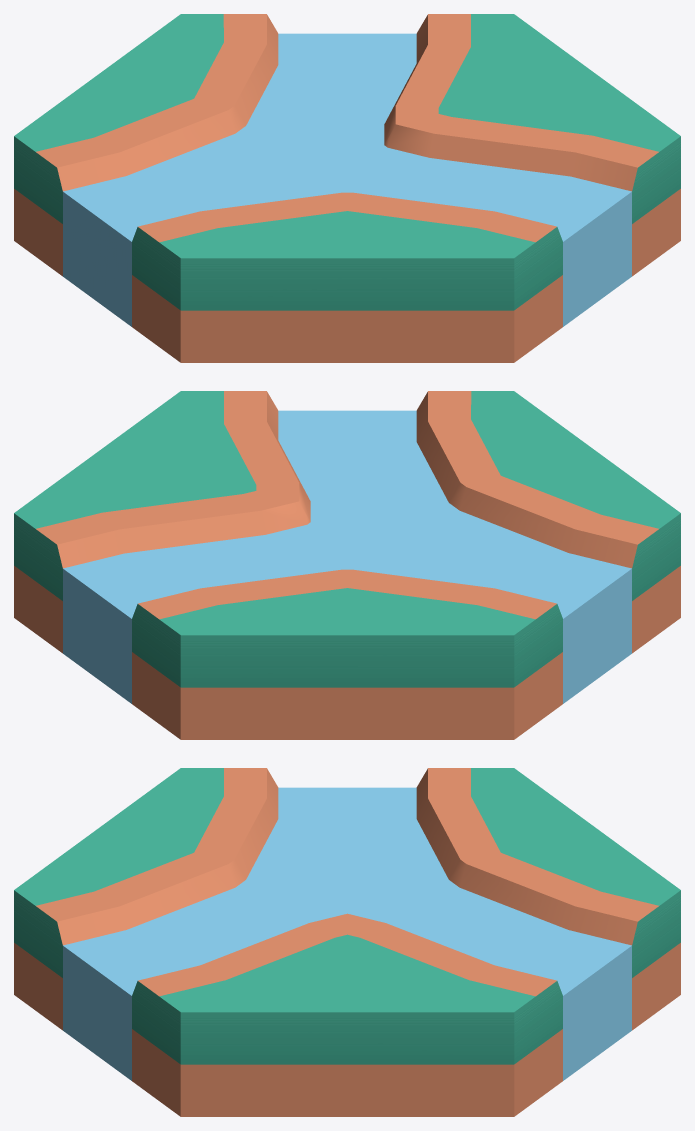
Rendered from river-intersection-f.glb.
The picture shows the model from 3 angles, top to bottom: view 1: azimuth 30°, elevation 25°; view 2: azimuth 150°, elevation 25°; view 3: azimuth 270°, elevation 25°; orthographic projection.
Visible parts, largest first — view 1: river-intersectionF; view 2: river-intersectionF; view 3: river-intersectionF.
Boxes of the visible parts, x1,y1,x2,y2 form: river-intersectionF: (14,14,680,362); river-intersectionF: (14,391,680,739); river-intersectionF: (14,768,680,1116).
Bounding box in the file's own units: 1 × 0.2 × 1.15.
1 material, 1 textured.
